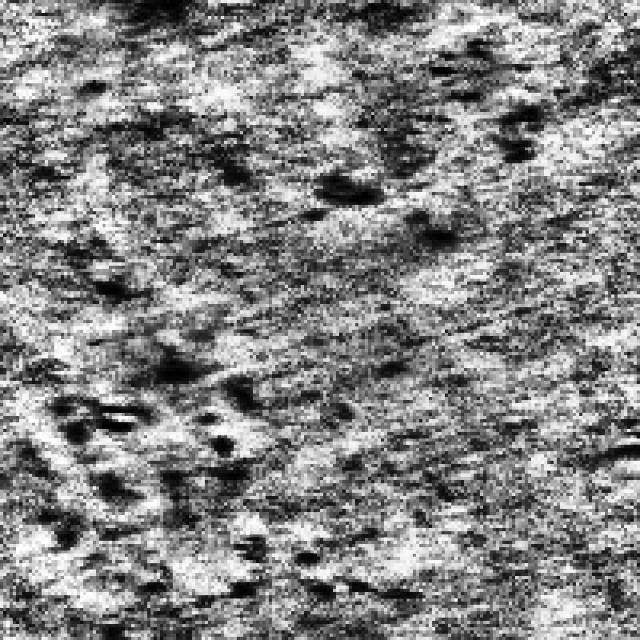Crazing: (38, 346, 397, 608), (288, 35, 538, 221)
